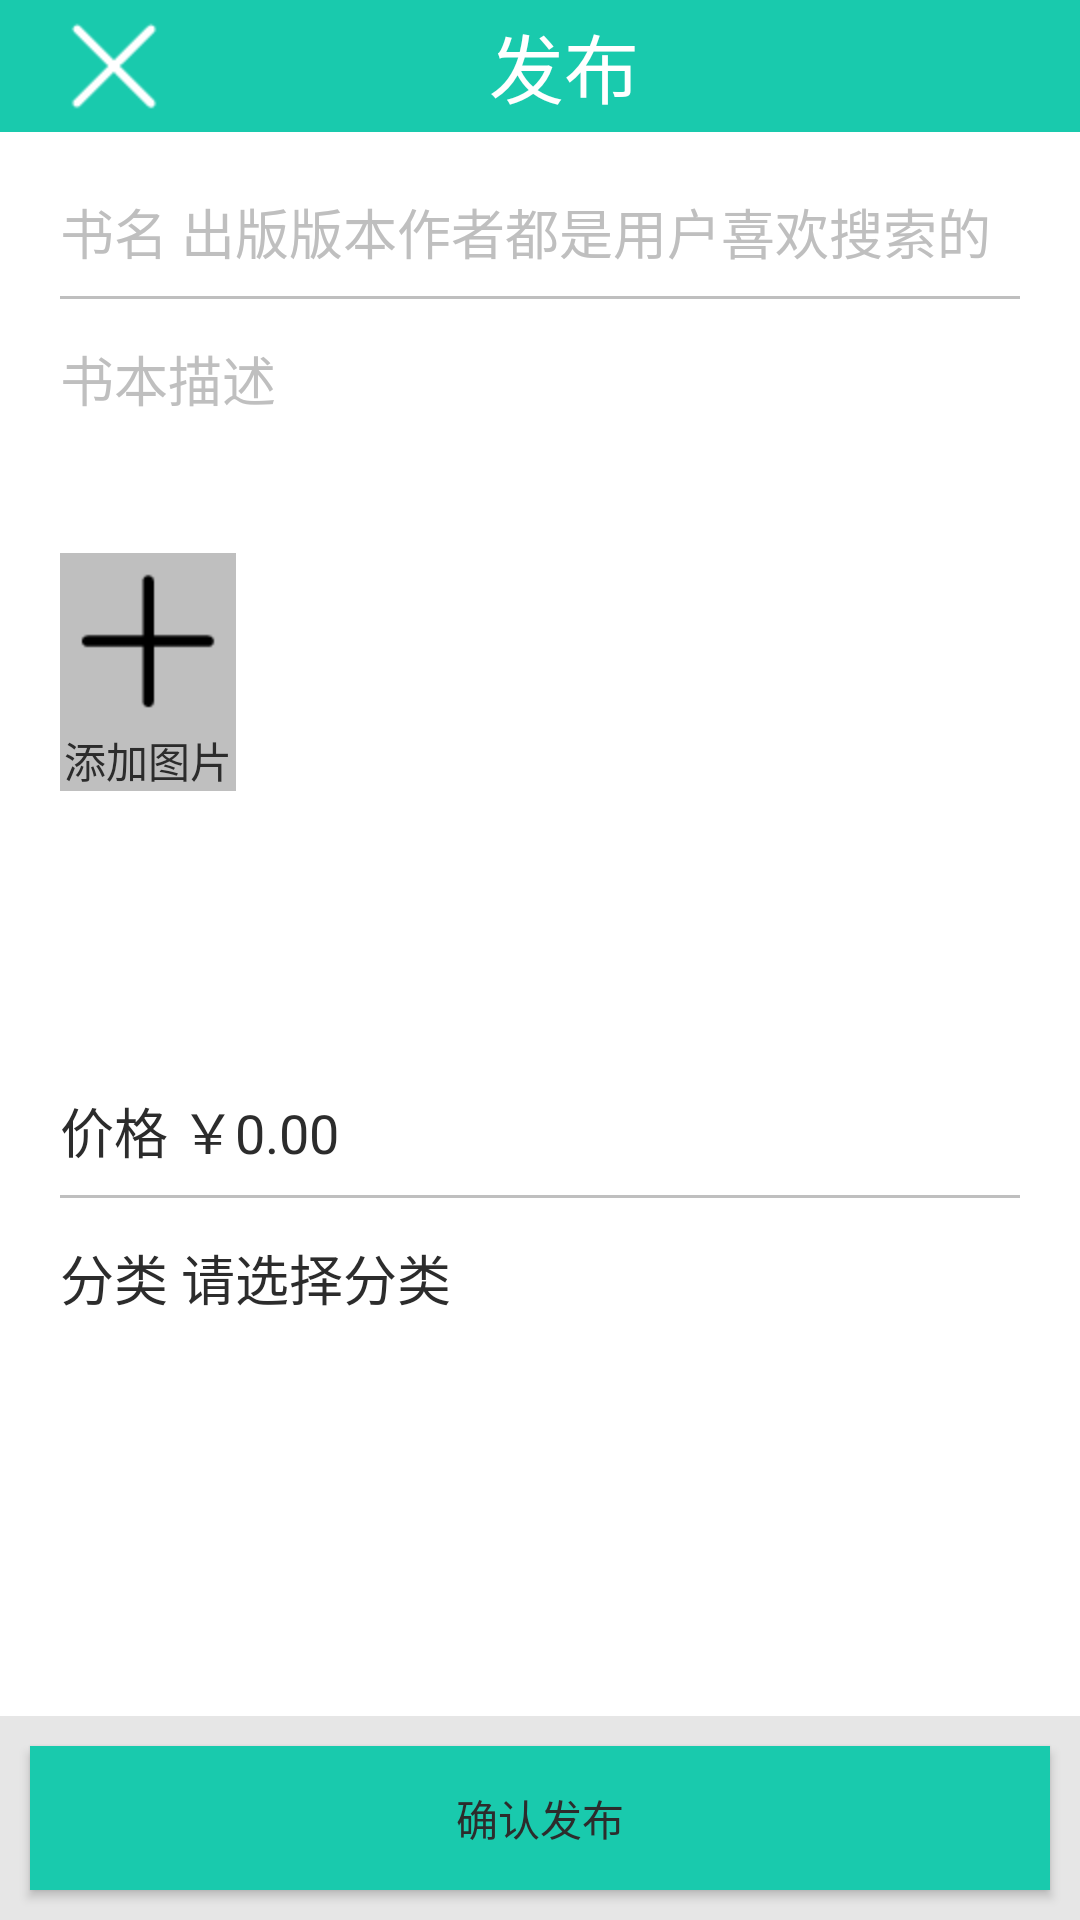

Screen size 1080px×1920px. Icon name, then its center in pixels as (x,y):
close: (114,66)
